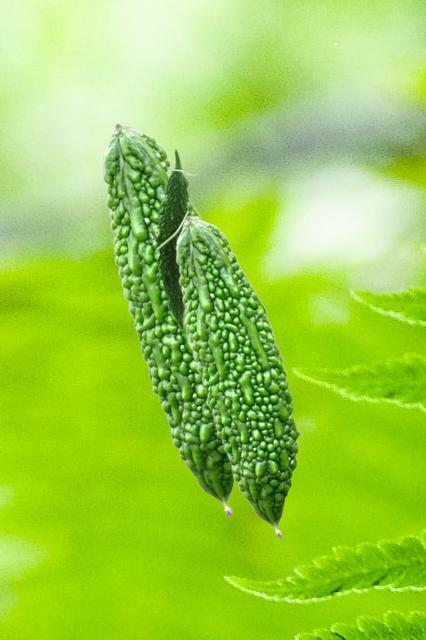ampalaya: (99, 121, 235, 518), (173, 215, 302, 539), (151, 148, 200, 331)
